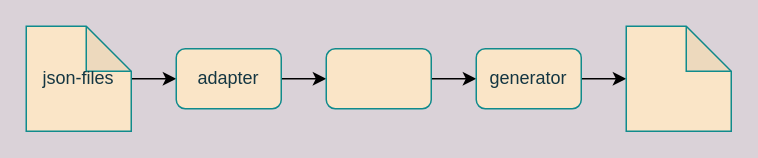
The diagram is 758 pixels wide and 158 high, and some of its shapes have lost their labels. Here are the shapes that lost their labels. From the top down, the centre of each, then its label:
At (x=378, y=78): "manager".
At (x=678, y=78): "Terminal Output".
